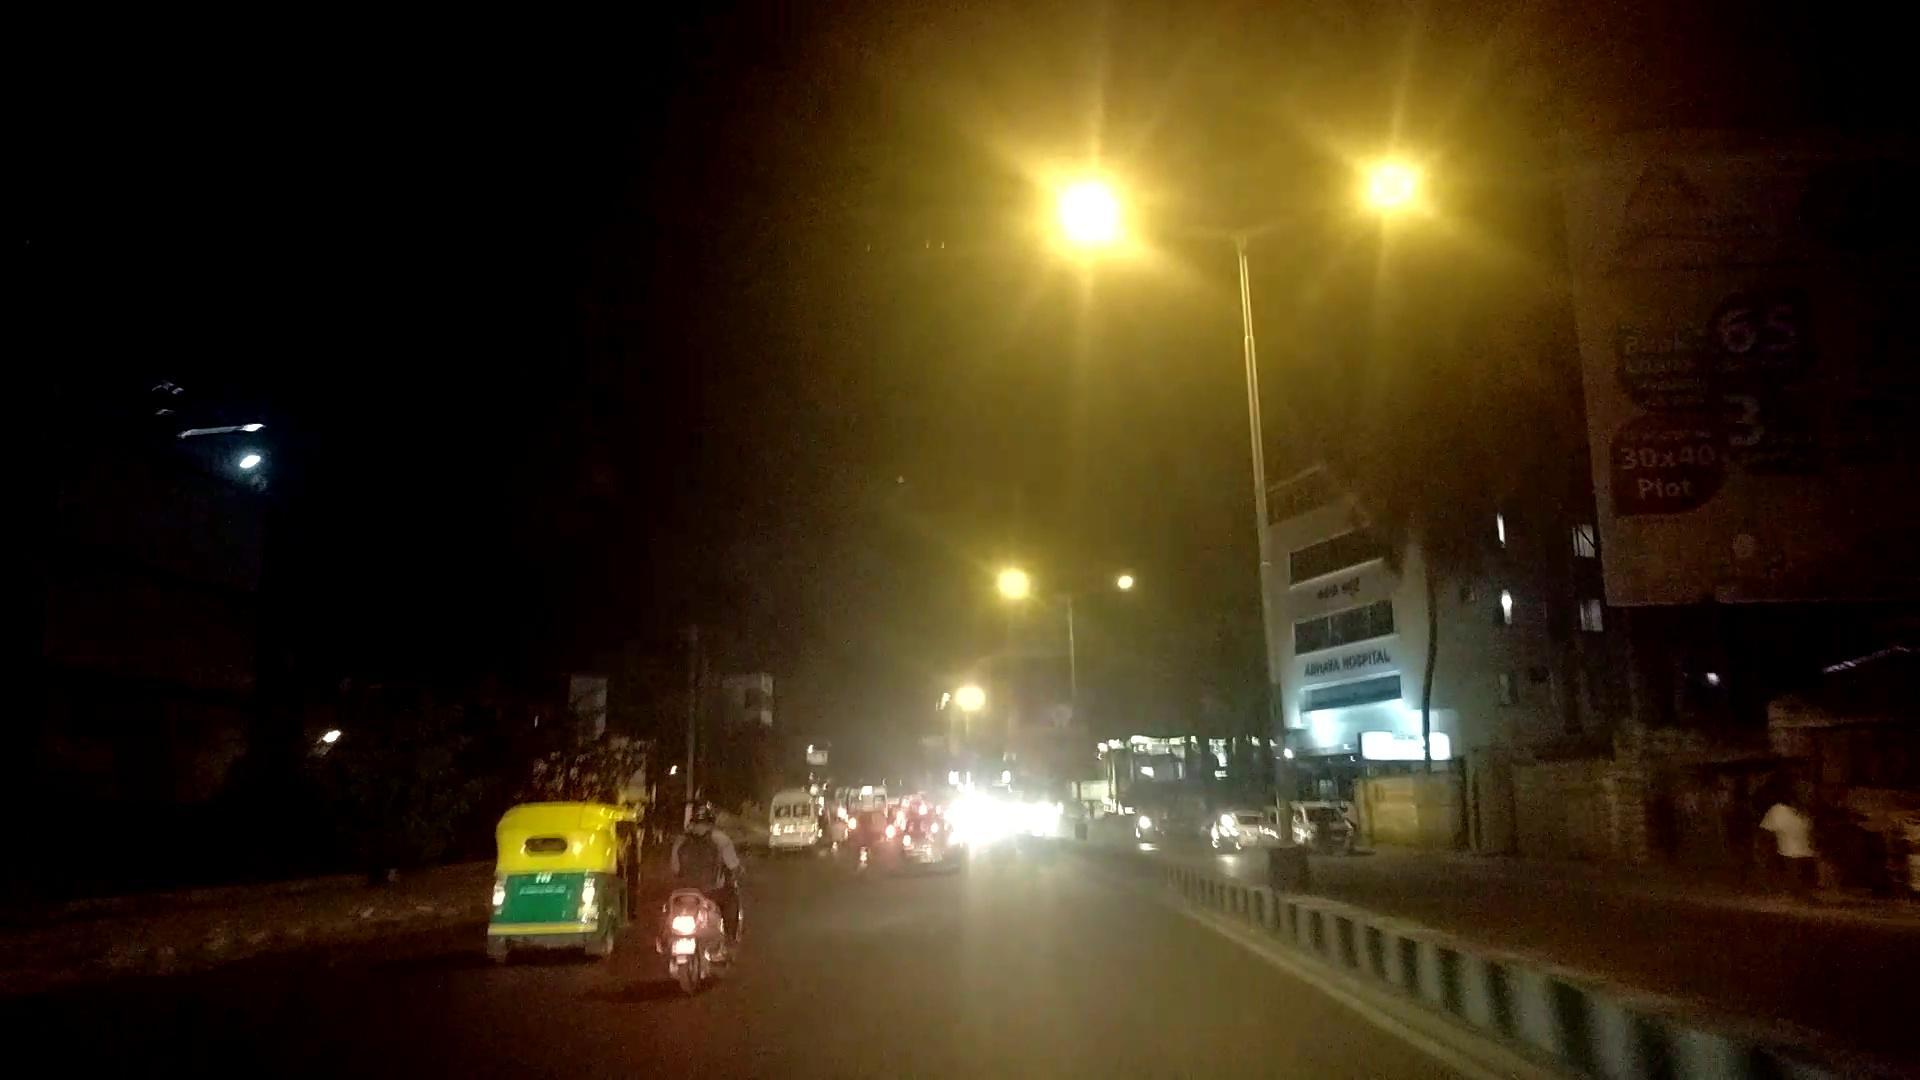on: (840, 82, 1590, 347)
